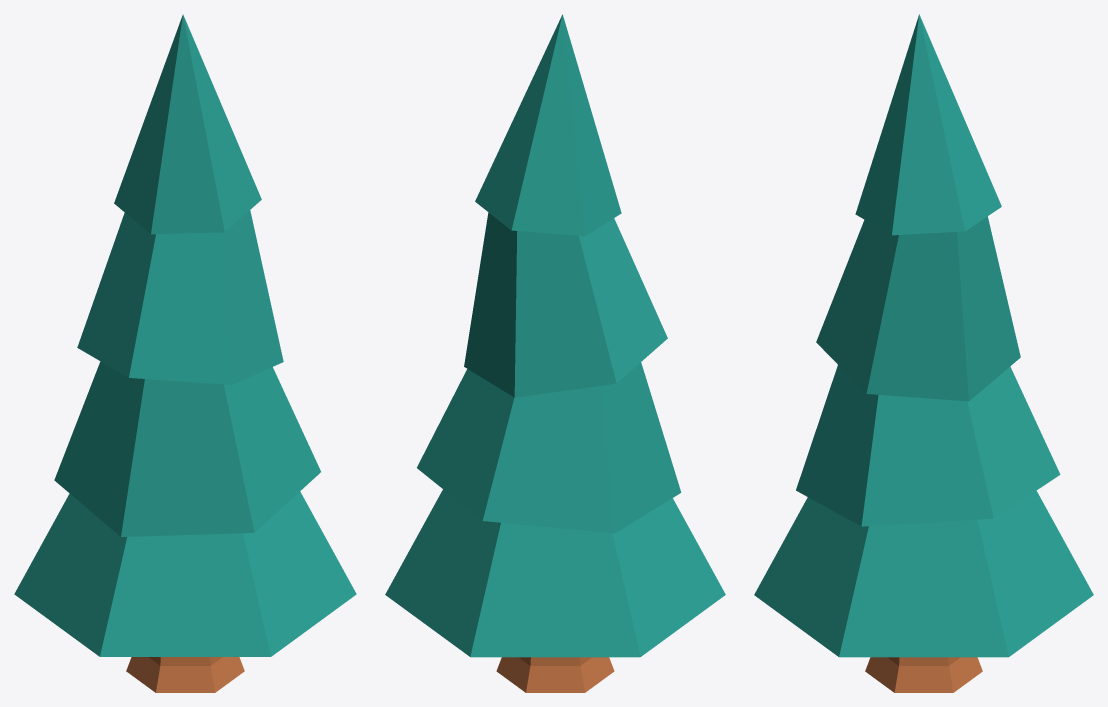
The model's file is treePine.fbx.
3 renders of one model, left to right at view 1: azimuth 30°, elevation 25°; view 2: azimuth 150°, elevation 25°; view 3: azimuth 270°, elevation 25°, orthographic.
Visible parts, largest first — view 1: treePine; view 2: treePine; view 3: treePine.
Boxes of the visible parts, x1,y1,x2,y2 form: treePine: (14, 14, 356, 692); treePine: (385, 14, 725, 692); treePine: (754, 14, 1093, 692).
Size of the model in its own units: 6.51 by 15.98 by 7.52.
